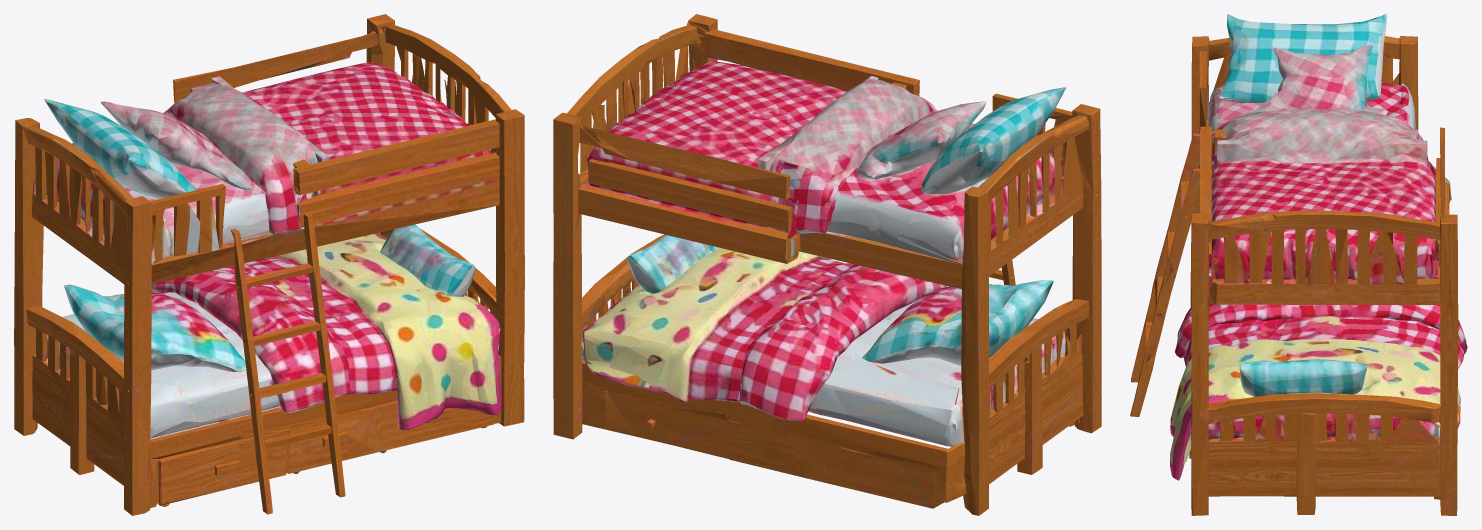
The model's file is bunkbed.glb.
3 renders of one model, left to right at view 1: azimuth 30°, elevation 25°; view 2: azimuth 150°, elevation 25°; view 3: azimuth 270°, elevation 25°, orthographic. The views are drawn at different scales.
Size of the model in its own units: 1.9 by 1.58 by 1.48.
Materials: 1 (1 with a texture image).
